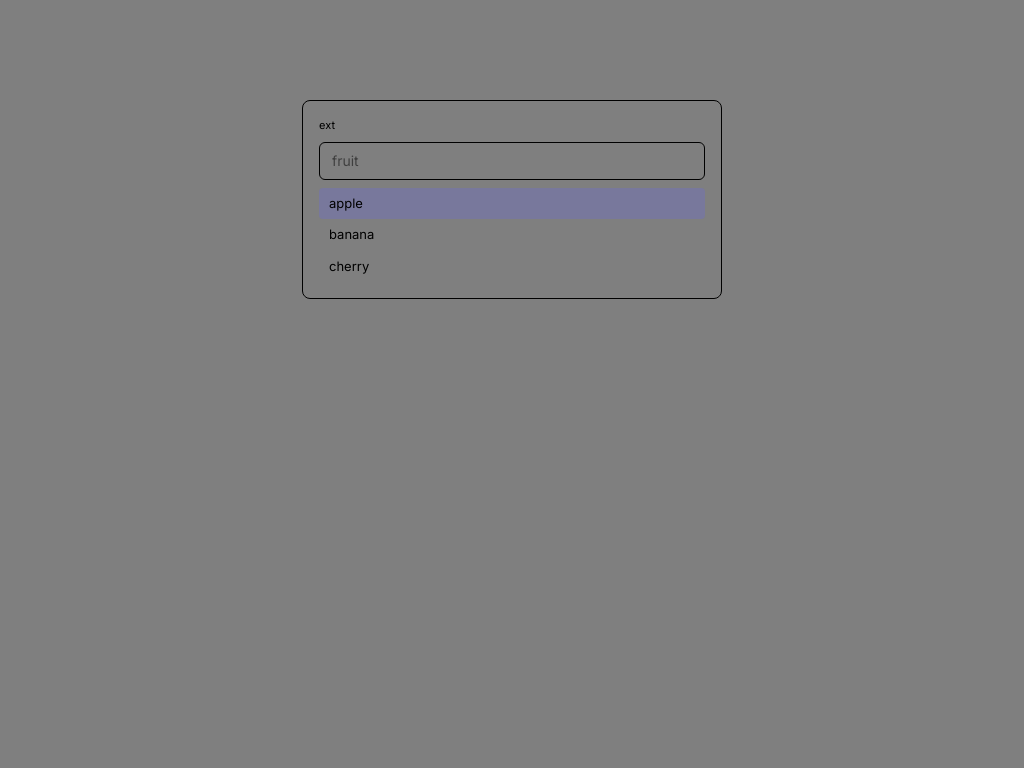
Test: ExtensionPromptModal › quickPick filter narrows the visible items
The width and height of the screenshot is (1024, 768).
Type "an" into the field with placeholder "fruit" at (512, 160), box [319, 142, 705, 180]
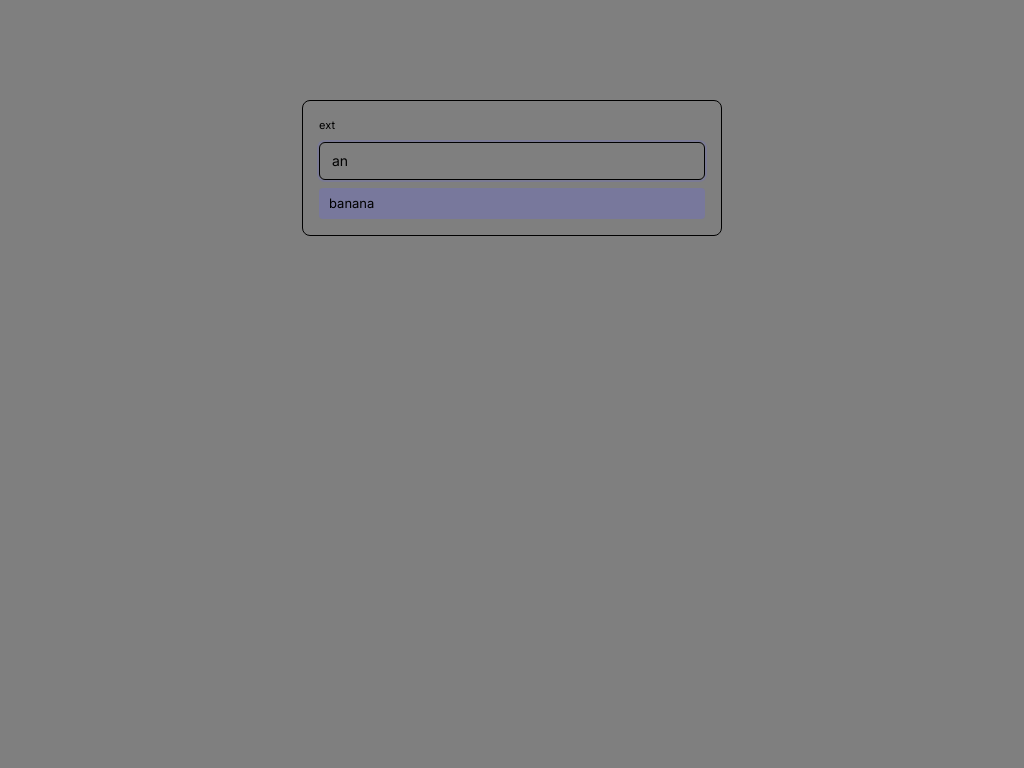
Expected: the text "banana" is shown, [329, 194, 374, 210]
Expected: the text "apple" is gone
Expected: the text "cherry" is gone
